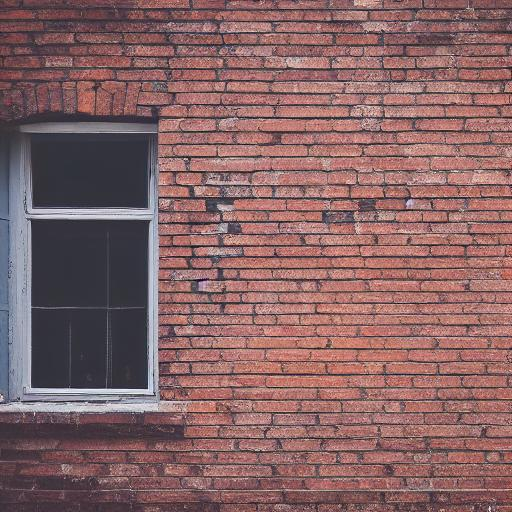Window: (2, 80, 190, 431)
